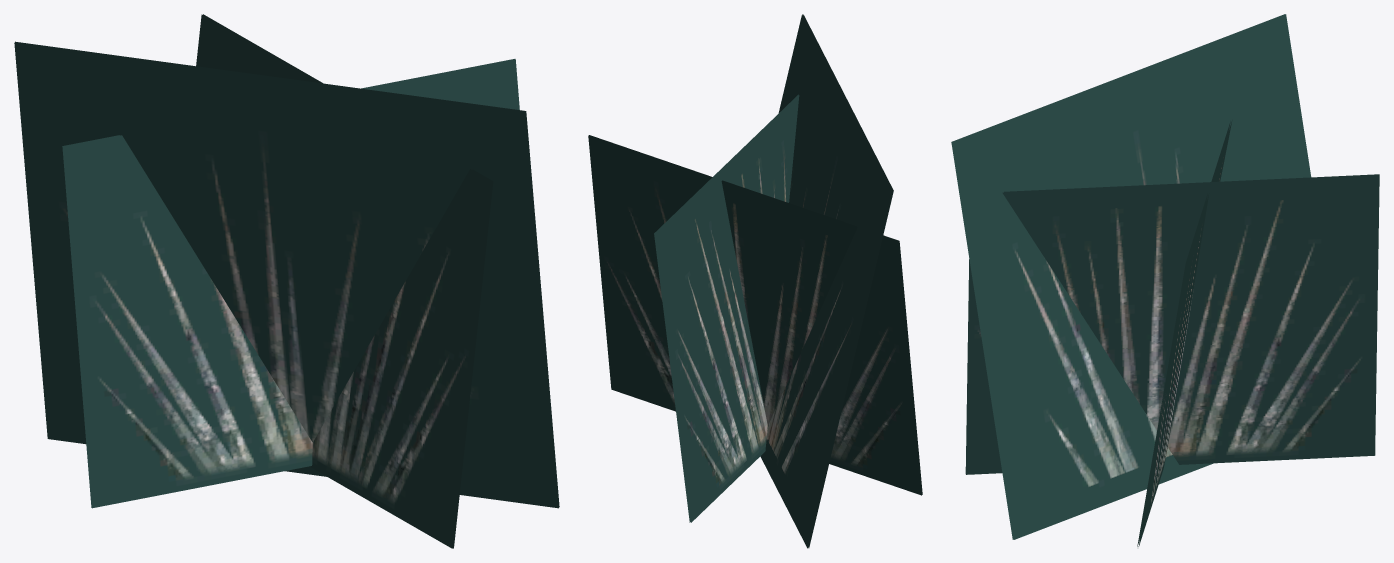
File: rock_crystl_shrpbush_sm_l3.fbx
The picture shows the model from 3 angles, left to right: view 1: azimuth 30°, elevation 25°; view 2: azimuth 150°, elevation 25°; view 3: azimuth 270°, elevation 25°; orthographic projection. The views are drawn at different scales.
Visible parts, largest first — view 1: mesh_node; view 2: mesh_node; view 3: mesh_node.
Part boxes in pixels (x1,y1,x2,y2): mesh_node: (14, 14, 559, 548); mesh_node: (588, 14, 922, 548); mesh_node: (951, 14, 1379, 546).
Bounding box in the file's own units: 1.74 × 1.65 × 1.73.
